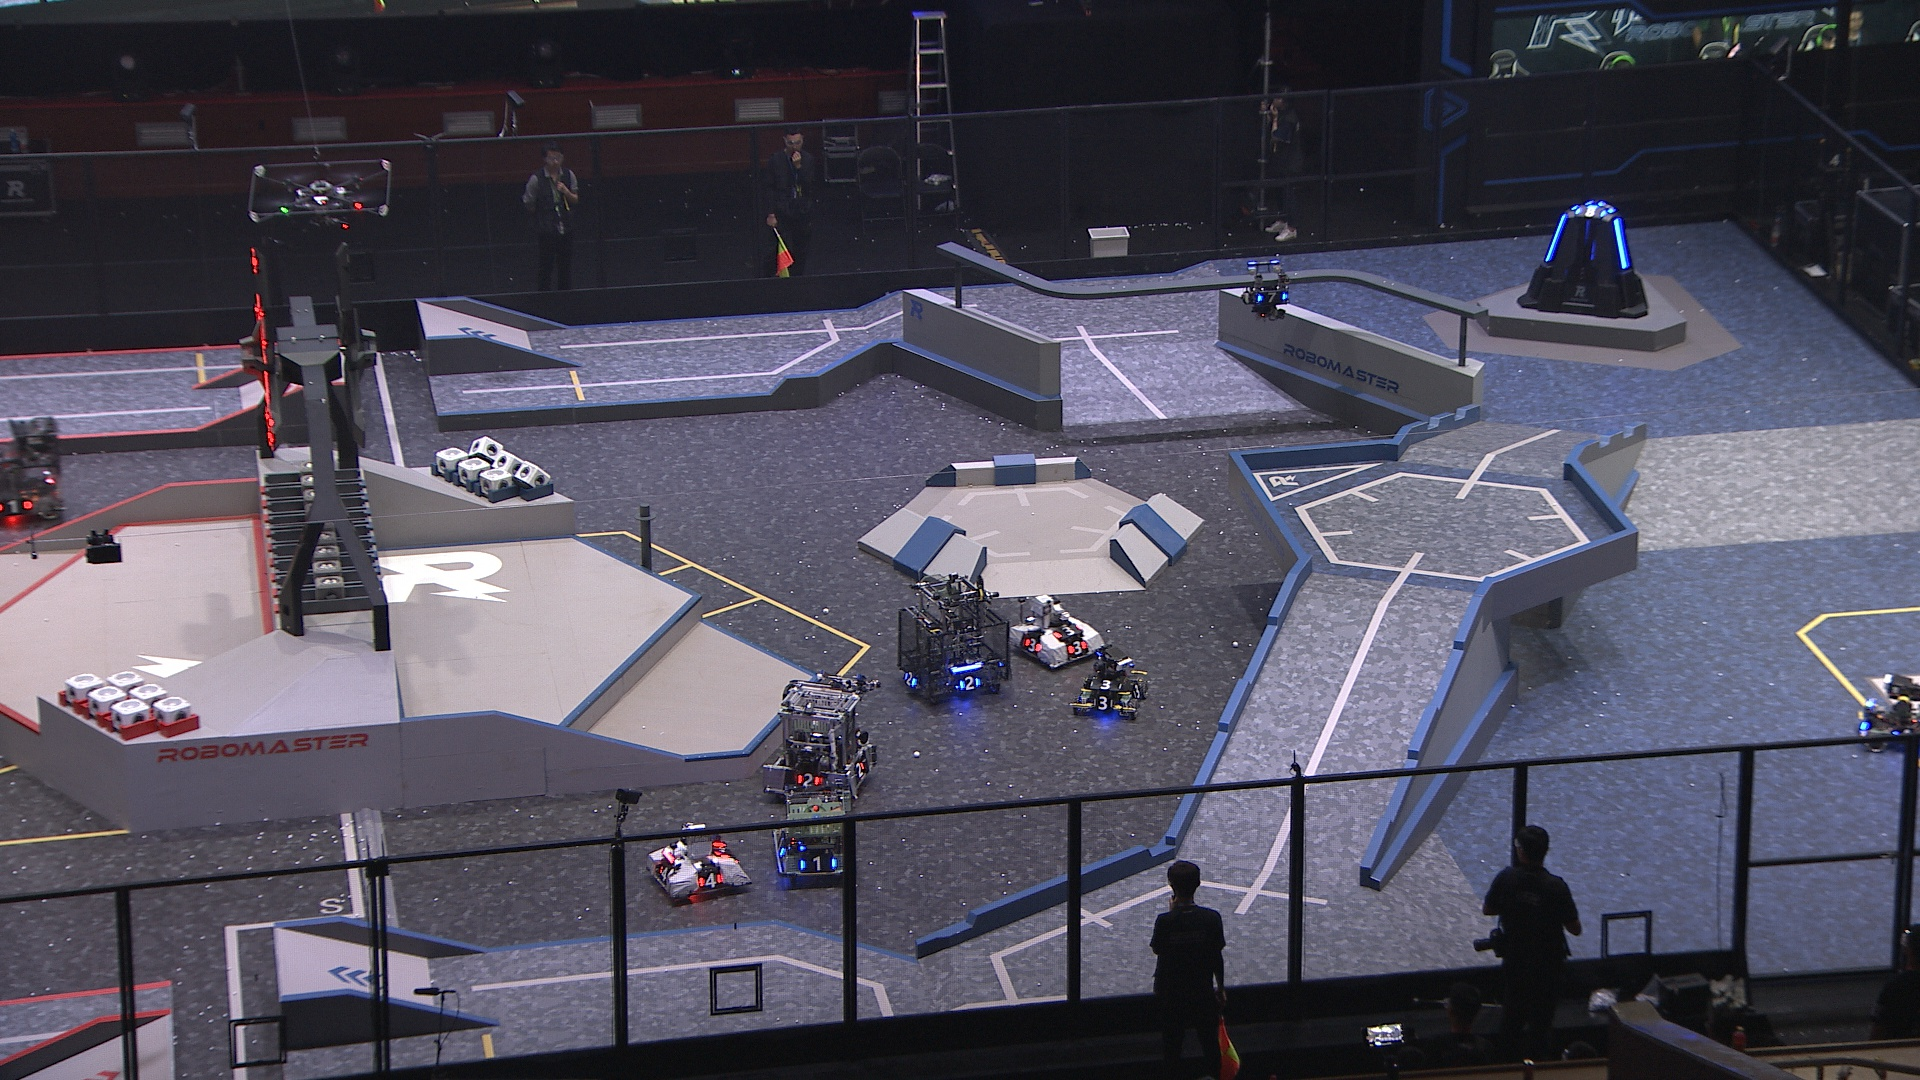armor: (1544, 214, 1571, 266), (1611, 215, 1631, 272), (795, 855, 839, 873), (1254, 290, 1288, 309), (1575, 202, 1609, 219), (793, 771, 823, 790), (698, 872, 723, 891), (1091, 695, 1116, 712), (1054, 624, 1081, 638), (1091, 678, 1124, 690), (655, 864, 674, 884), (956, 675, 981, 690), (901, 669, 918, 688), (1067, 638, 1087, 655), (1022, 636, 1043, 651), (773, 829, 785, 855), (1130, 680, 1143, 700), (855, 761, 866, 781)
base: (1513, 200, 1650, 319)
car: (895, 575, 1011, 703), (761, 679, 878, 802), (647, 822, 752, 906), (766, 790, 855, 884), (1007, 593, 1106, 671), (1067, 645, 1150, 721), (1851, 674, 1920, 754)
watcher: (1240, 258, 1291, 323)
